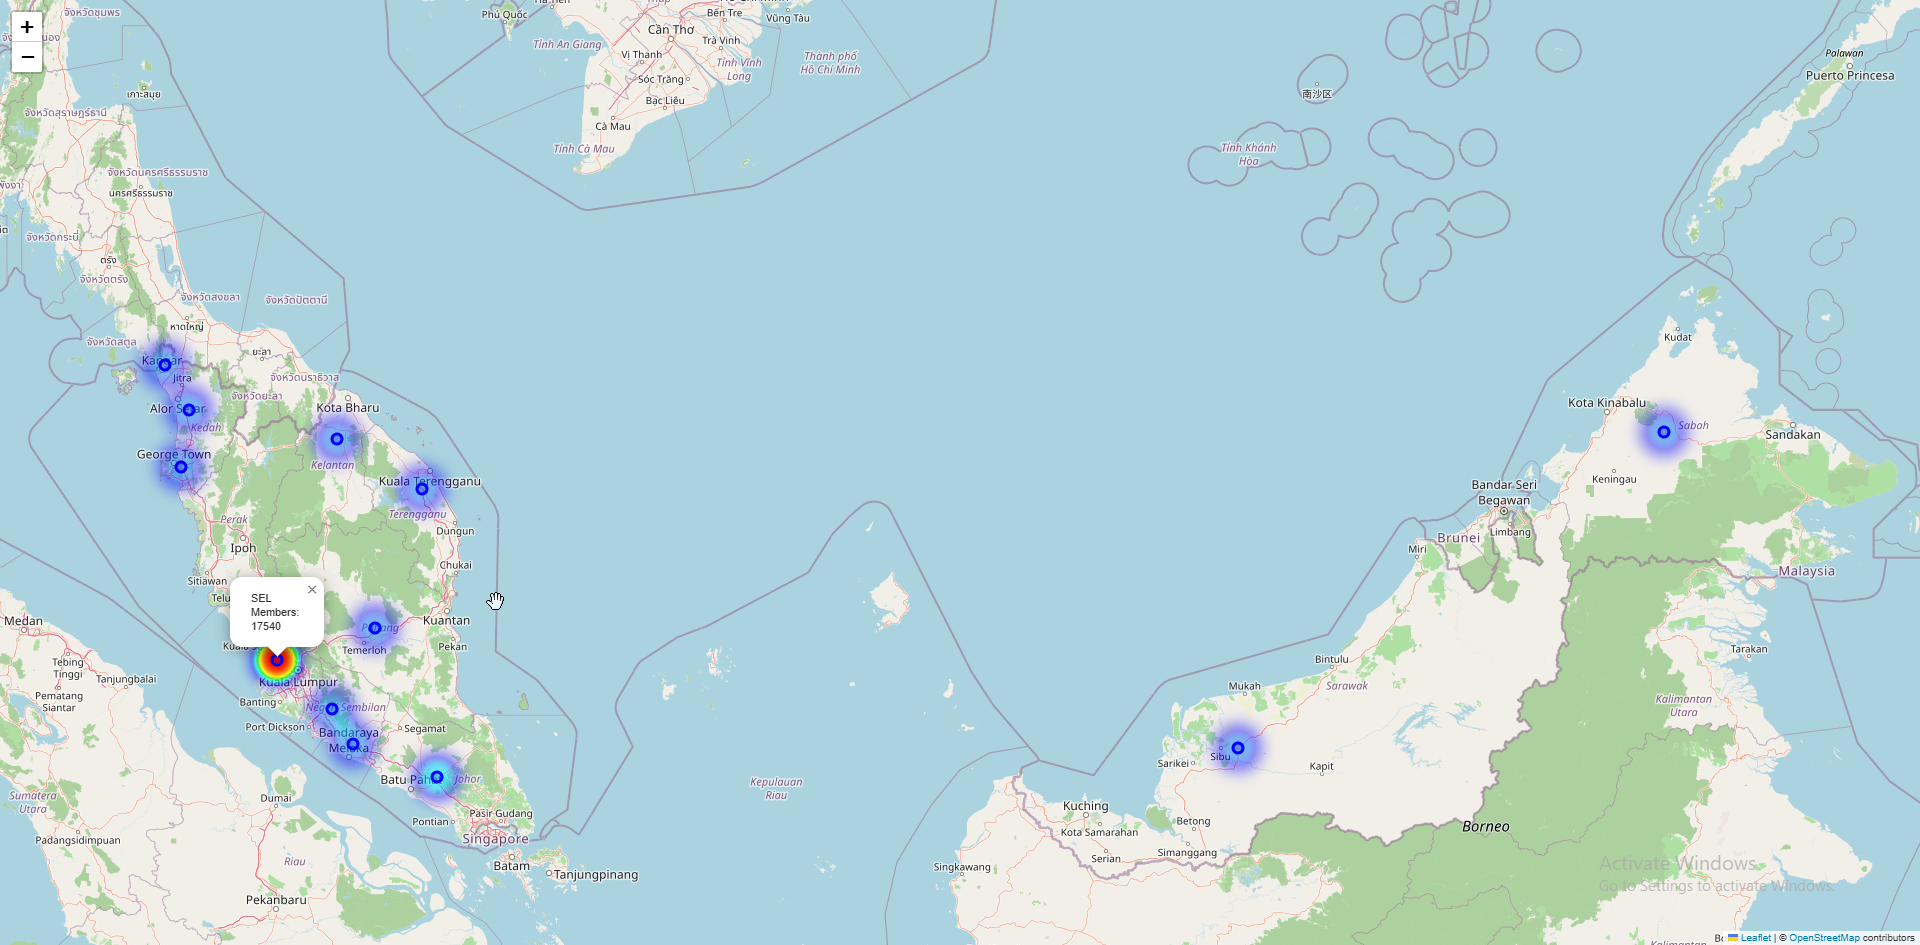

The page's visual inventory and layout, read from the dashboard file:
{"tool":"powerbi","page":{"name":"Page 1","canvas":[1280,720],"ordinal":0},"visuals":[{"type":"map","fields":{"Y":["cleaned_heatmap_final.Lat"],"X":["cleaned_heatmap_final.Lon"],"Series":["cleaned_heatmap_final.t_area_id"],"Size":["Sum(cleaned_heatmap_final.member_count)"]},"box":[0,0,280.1,280.1],"z":0}]}

Visuals, with their boxes on the page's 1280x720 design canvas (x1, y1, x2, y2). These are canvas units, not pixel positions in the 1920x945 screenshot, which may show the page scaled, cropped or inside an application window:
map - cleaned_heatmap_final.Lat x cleaned_heatmap_final.Lon: (left=0, top=0, right=280, bottom=280)
